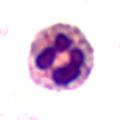eosi: (24, 21, 96, 92)
